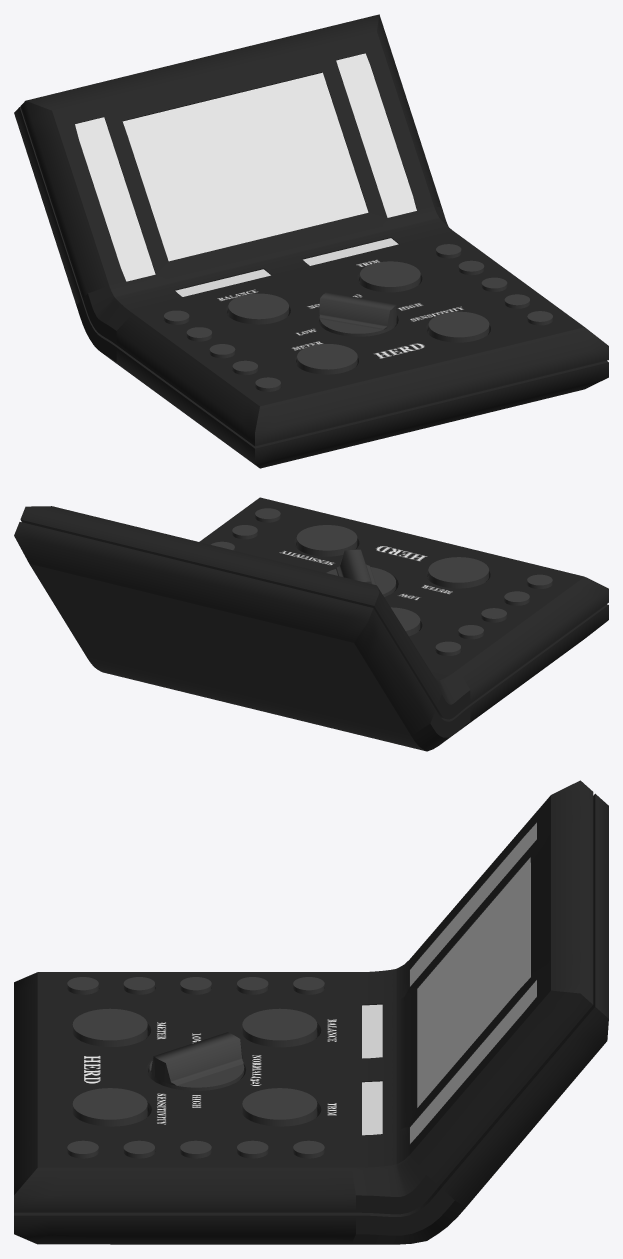
Rendered from Hoffman_Device.fbx.
3 renders of one model, top to bottom at view 1: azimuth 30°, elevation 25°; view 2: azimuth 150°, elevation 25°; view 3: azimuth 270°, elevation 25°, orthographic. The views are drawn at different scales.
Visible parts, largest first — view 1: Hoffman_device1_Device, Screen, Screen2, Screen1, Screen3, Screen4; view 2: Hoffman_device1_Device; view 3: Hoffman_device1_Device, Screen, Screen1, Screen2, Screen3, Screen4.
Part boxes in pixels (x1,y1,x2,y2): Hoffman_device1_Device: [14, 14, 608, 468]; Screen: [122, 72, 368, 261]; Screen2: [336, 53, 416, 217]; Screen1: [75, 117, 155, 281]; Screen3: [175, 269, 270, 296]; Screen4: [303, 238, 398, 265]; Hoffman_device1_Device: [14, 497, 608, 751]; Hoffman_device1_Device: [14, 780, 608, 1244]; Screen: [417, 857, 530, 1107]; Screen1: [410, 822, 536, 986]; Screen2: [410, 980, 536, 1143]; Screen3: [362, 1004, 382, 1058]; Screen4: [362, 1081, 382, 1135].
Bounding box in the file's own units: 5.89 × 3.35 × 6.95.
3 materials, 2 textured.
